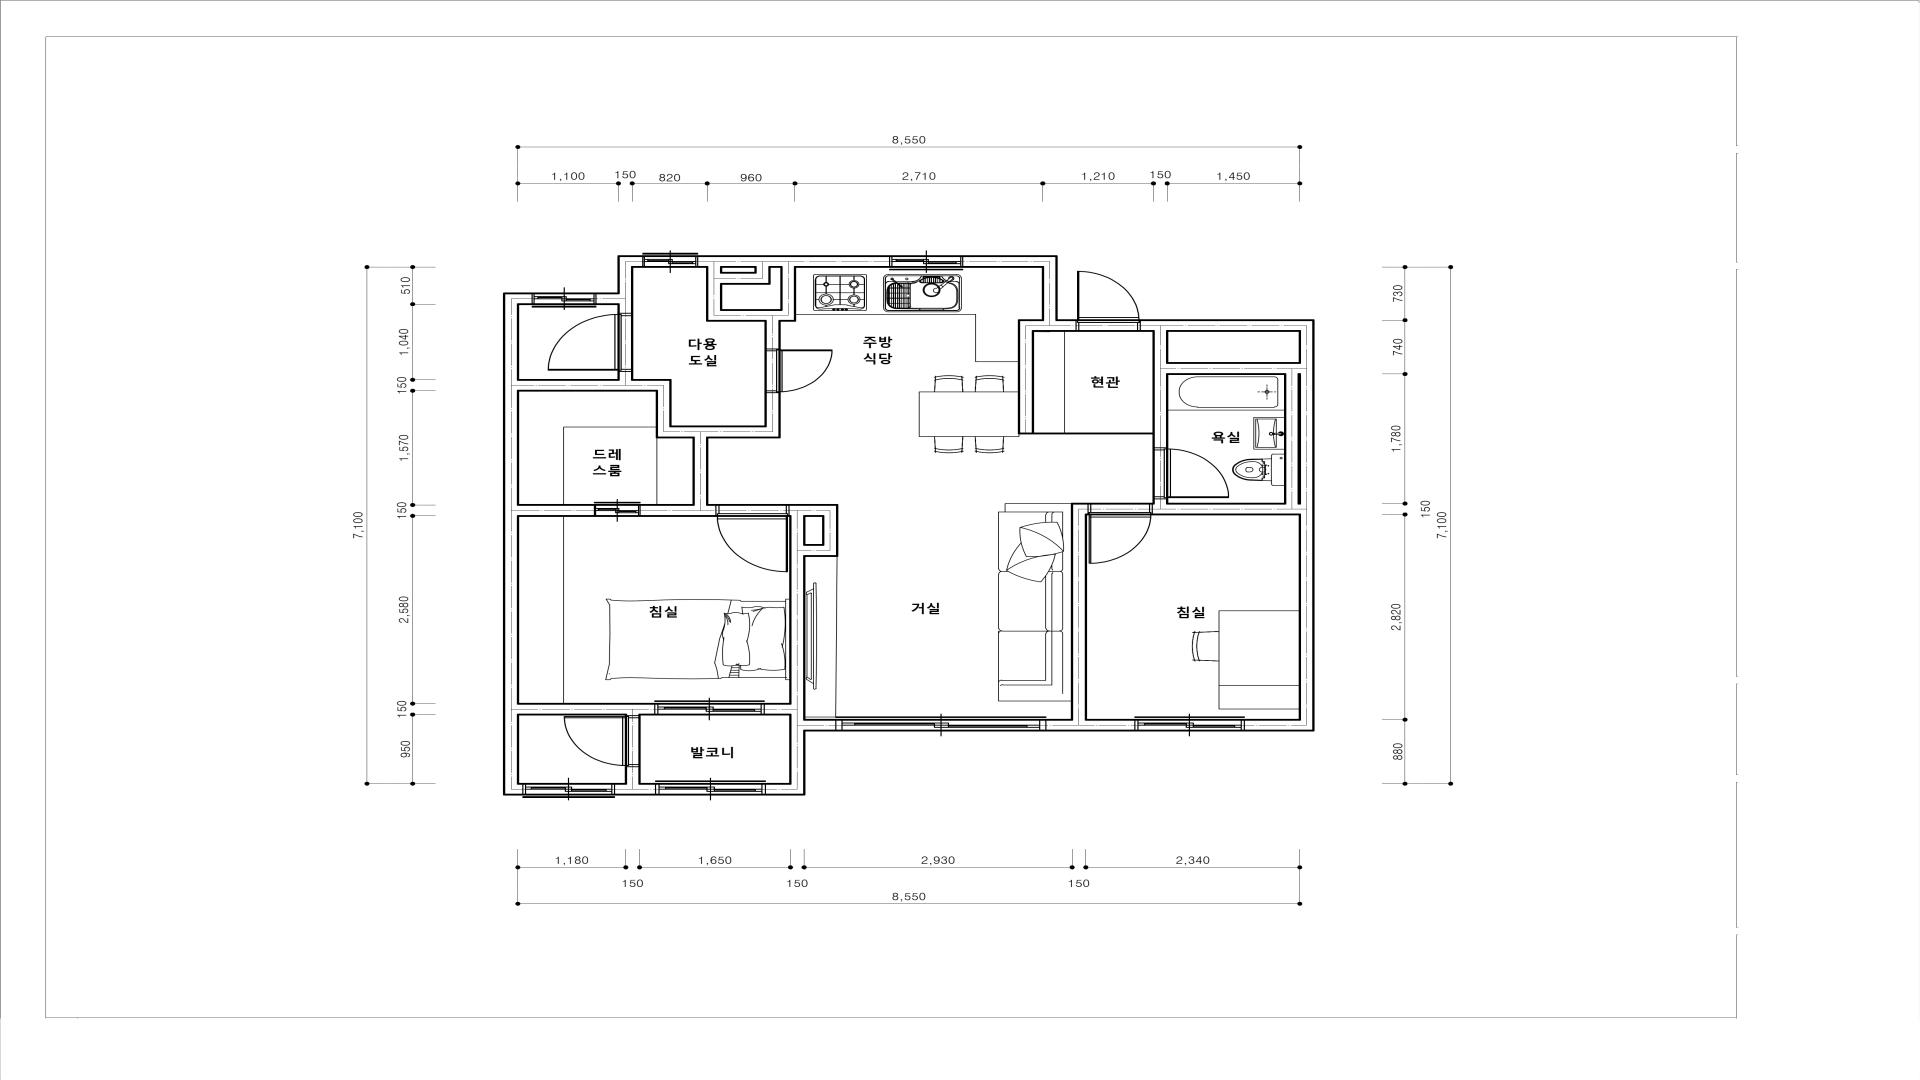door: (548, 313, 633, 372), (716, 504, 789, 572), (1087, 503, 1153, 564), (1076, 271, 1141, 332), (1152, 448, 1229, 499), (564, 716, 641, 767), (764, 349, 833, 393), (594, 502, 640, 517)
wall: (503, 305, 519, 783), (1298, 332, 1315, 731), (1071, 503, 1087, 719), (789, 517, 806, 719), (699, 255, 889, 268), (1141, 319, 1315, 332), (519, 379, 672, 392), (1284, 362, 1298, 503), (519, 703, 654, 716), (1153, 332, 1168, 447), (1018, 332, 1034, 435), (1168, 503, 1298, 515), (1169, 362, 1284, 375), (672, 425, 781, 438), (964, 255, 1058, 268), (1046, 719, 1134, 732), (692, 439, 708, 504), (1042, 268, 1058, 332), (519, 504, 594, 517), (641, 504, 716, 517), (722, 309, 796, 322), (706, 268, 722, 322), (789, 732, 805, 783), (656, 392, 672, 438), (1245, 719, 1298, 732), (780, 268, 796, 309), (789, 504, 839, 517), (789, 719, 835, 731), (764, 393, 781, 425), (615, 783, 655, 796), (766, 783, 806, 796), (597, 292, 633, 305), (822, 517, 838, 544), (806, 544, 838, 557), (722, 272, 755, 284), (765, 322, 780, 348), (617, 268, 633, 292), (503, 292, 531, 305), (617, 255, 642, 268), (1018, 319, 1042, 332), (765, 703, 789, 715), (755, 268, 771, 285), (625, 767, 641, 783), (1152, 499, 1168, 515), (503, 783, 522, 796), (1058, 319, 1076, 332), (617, 305, 633, 313), (617, 372, 633, 379)
window: (835, 716, 1046, 732), (655, 780, 766, 796), (1134, 716, 1244, 731), (655, 700, 765, 715), (523, 783, 614, 798), (890, 255, 964, 270), (531, 292, 597, 308), (643, 253, 698, 268)
